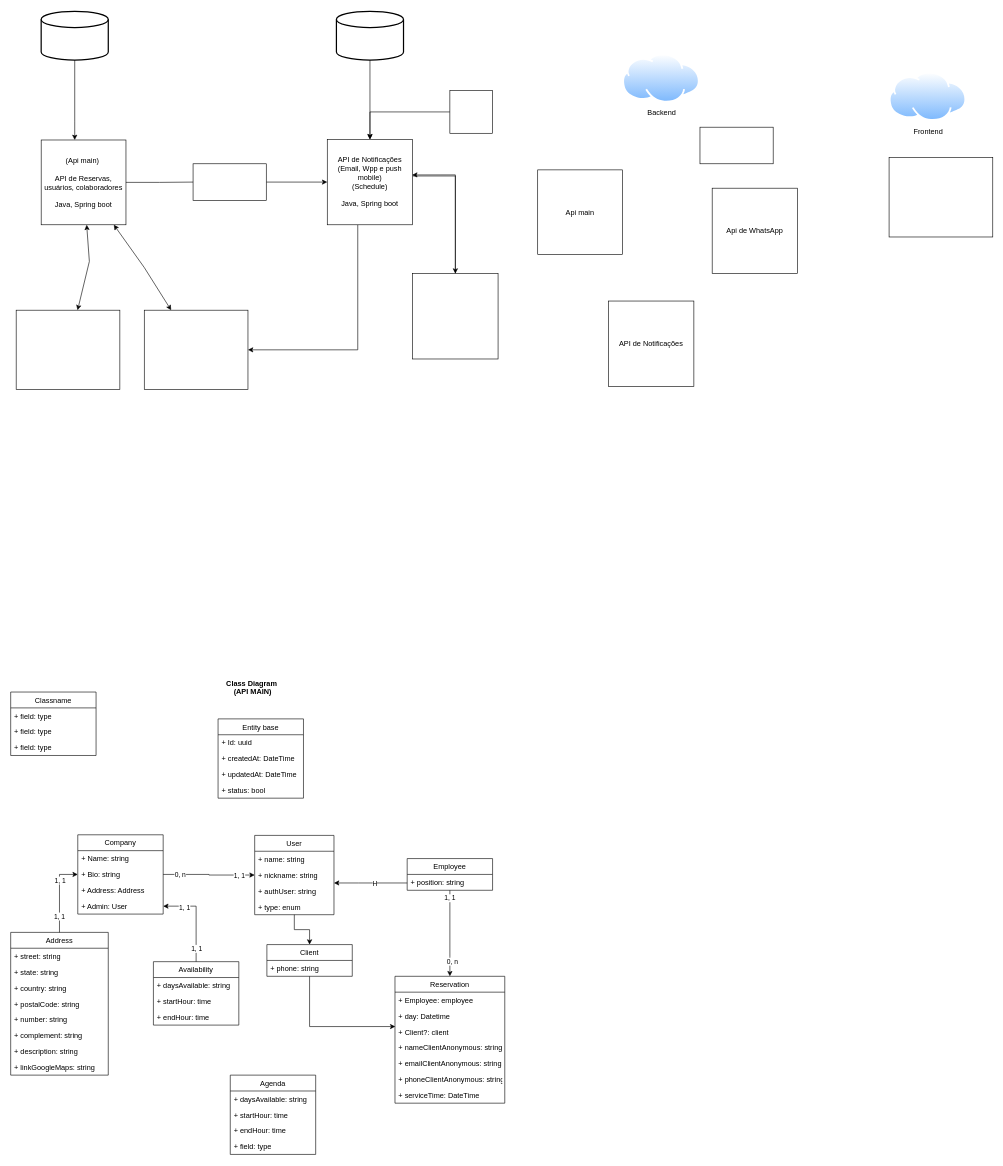
Some shapes in this 1003 by 1166 pixel diagram are drawn without their labels. Each missing label, with the centre of its shape:
Api de WhatsApp (Node): (455,316)
Fila: (736,145)
Fila (Rabbit MQ): (229,181)
Mobile (React Native): (196,349)
NoSQL: (370,35)
SendGrid: (471,111)
SQL Postgresql: (74,35)
Web: (940,197)
Web (React): (68,349)
